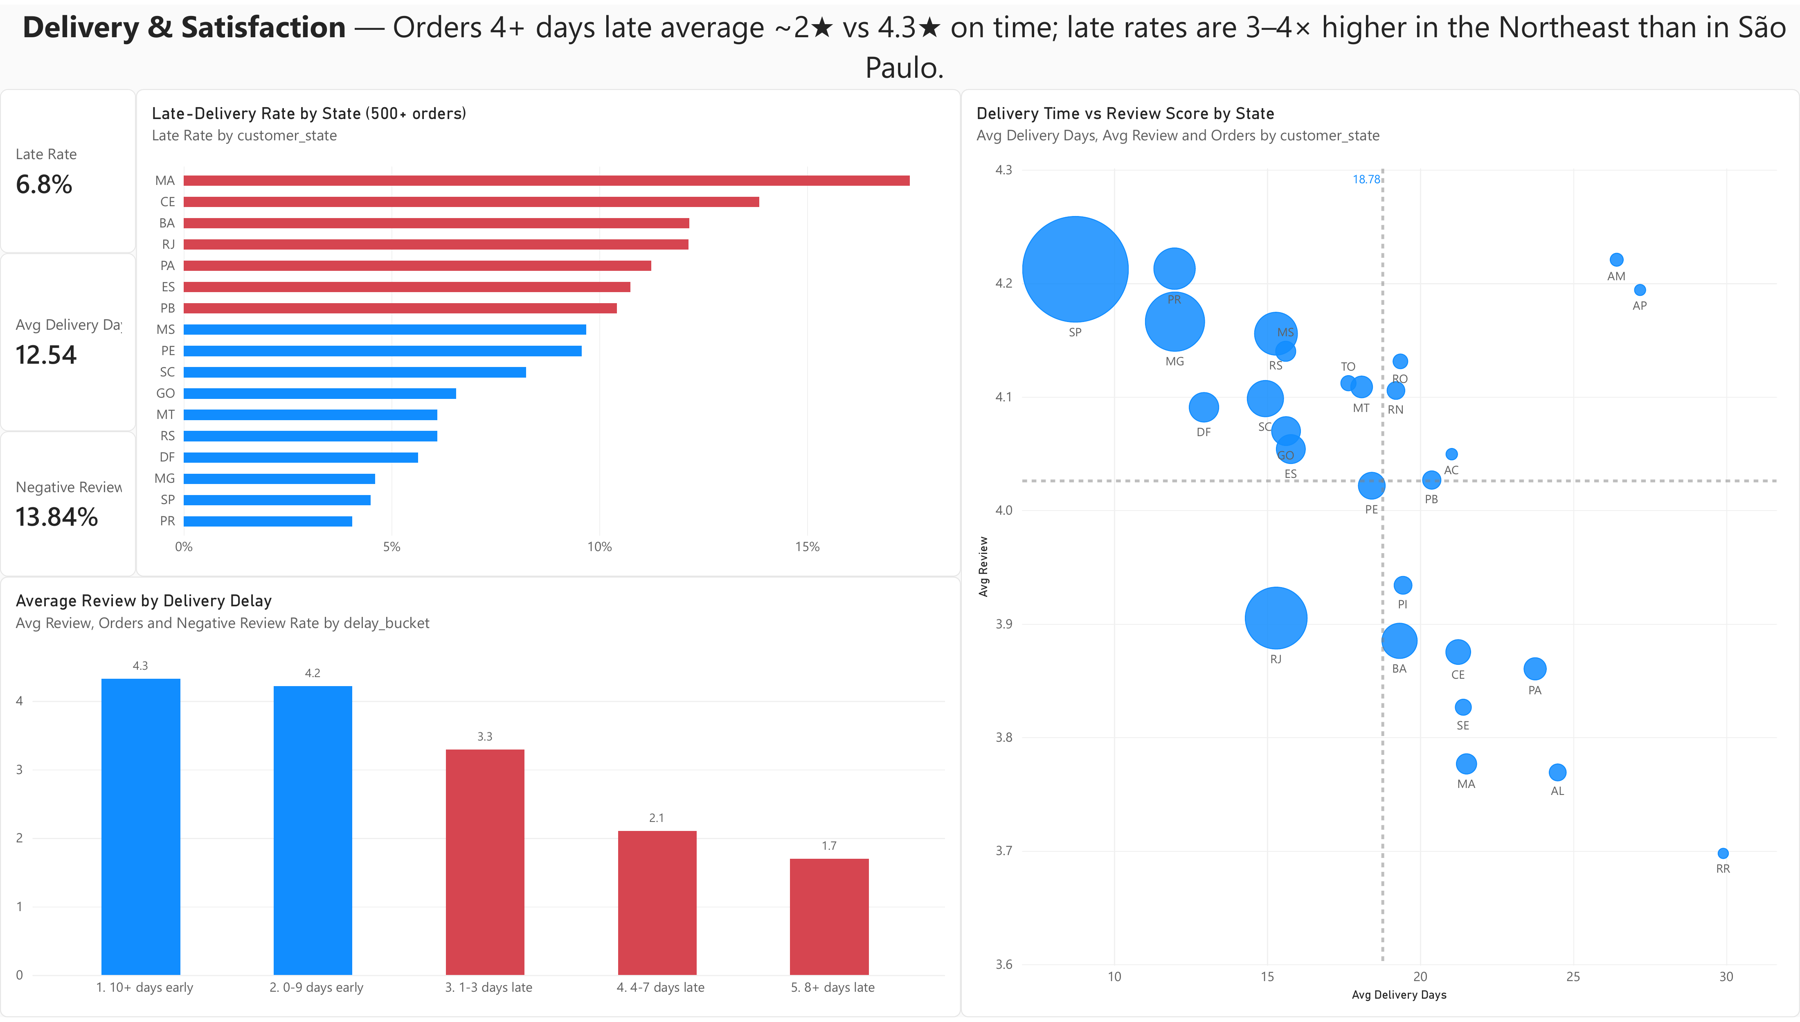

What the dashboard file says about the page in this screenshot:
{"tool":"powerbi","page":{"name":"Delivery","canvas":[1920,1080],"ordinal":1},"visuals":[{"type":"textbox","box":[10,0,1910,115],"z":0},{"type":"cardVisual","fields":{"Data":["fct_orders.Late Rate"]},"box":[0,90,145,175],"z":1},{"type":"cardVisual","fields":{"Data":["fct_orders.Avg Delivery Days"]},"box":[0,265,145,190],"z":2},{"type":"cardVisual","fields":{"Data":["fct_orders.Negative Review Rate"]},"box":[0,455,145,155],"z":3},{"type":"clusteredColumnChart","title":"Average Review by Delivery Delay","fields":{"Category":["fct_orders.delay_bucket"],"Y":["fct_orders.Avg Review"]},"box":[0,610,1025,470],"z":4},{"type":"clusteredBarChart","title":"Late-Delivery Rate by State (500+ orders)","fields":{"Category":["dim_customer.customer_state"],"Y":["fct_orders.Late Rate"]},"box":[145,90,880,520],"z":5},{"type":"scatterChart","title":"Delivery Time vs Review Score by State","fields":{"Category":["dim_customer.customer_state"],"Size":["fct_orders.Orders"],"X":["fct_orders.Avg Delivery Days"],"Y":["fct_orders.Avg Review"]},"box":[1025,90,895,990],"z":6}]}

Visuals, with their boxes in screenshot pixels (x1, y1, x2, y2), scaled from the page's 1920x1080 canvas onto the 1800x1022 screenshot:
textbox: bbox=[9, 0, 1799, 109]
cardVisual - fct_orders.Late Rate: bbox=[0, 85, 136, 251]
cardVisual - fct_orders.Avg Delivery Days: bbox=[0, 251, 136, 431]
cardVisual - fct_orders.Negative Review Rate: bbox=[0, 431, 136, 577]
"Average Review by Delivery Delay" clusteredColumnChart: bbox=[0, 577, 961, 1021]
"Late-Delivery Rate by State (500+ orders)" clusteredBarChart: bbox=[136, 85, 961, 577]
"Delivery Time vs Review Score by State" scatterChart: bbox=[961, 85, 1799, 1021]
